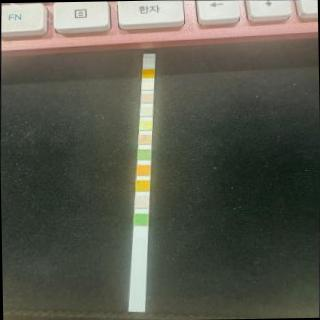mark: (134, 213, 148, 226), (134, 196, 148, 208), (136, 164, 150, 176), (138, 133, 150, 145), (138, 149, 151, 160), (136, 180, 150, 190), (141, 92, 153, 103), (138, 120, 152, 129), (142, 80, 154, 90), (143, 56, 155, 66), (140, 106, 152, 115), (142, 68, 154, 77)
